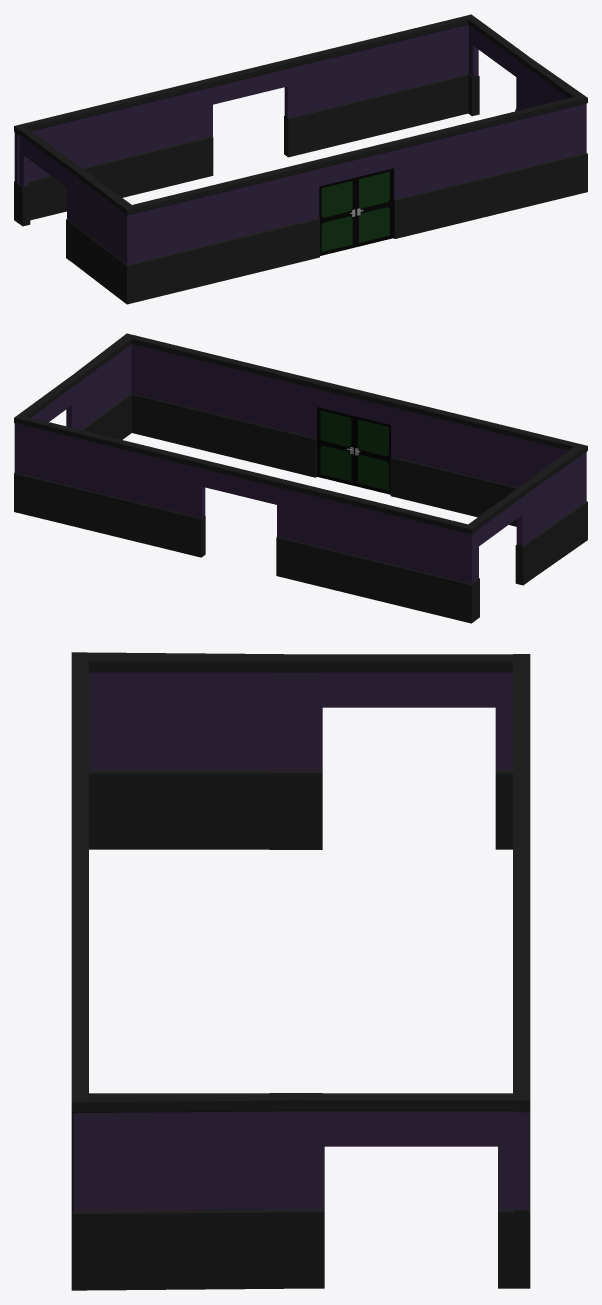
The model's file is Lobby.fbx.
The picture shows the model from 3 angles, top to bottom: view 1: azimuth 30°, elevation 25°; view 2: azimuth 150°, elevation 25°; view 3: azimuth 270°, elevation 25°; orthographic projection. The views are drawn at different scales.
Visible parts, largest first — view 1: Classic_Wall_Corner_snaps001 (4), Classic_Wall_Corner_snaps001 (2), Classic_Wall_snaps001 (30), Classic_Wall_snaps001 (31), Classic_Wall_snaps001 (28), Classic_Wall_snaps001 (44), Classic_WallDoubleDoors_01_snaps001, Classic_Wall_snaps001 (29), Classic_Wall_snaps001 (45), Classic_WallDoubleDoorFrame_01_snaps001 (3), Classic_WallDoubleDoorFrame_01_snaps001 (4), Classic_WallDoubleDoorFrame_01_snaps001 (2) (+2 smaller); view 2: Classic_Wall_Corner_snaps001 (2), Classic_Wall_snaps001 (45), Classic_Wall_Corner_snaps001 (4), Classic_Wall_snaps001 (44), Classic_Wall_snaps001 (30), Classic_Wall_snaps001 (28), Classic_Wall_snaps001 (29), Classic_Wall_snaps001 (31), Classic_WallDoubleDoors_01_snaps001, Classic_WallDoubleDoorFrame_01_snaps001 (3), Classic_WallDoubleDoorFrame_01_snaps001 (4), Classic_WallDoubleDoorFrame_01_snaps001 (2) (+2 smaller); view 3: Classic_Wall_Corner_snaps001 (2), Classic_Wall_Corner_snaps001 (4), Classic_WallDoubleDoorFrame_01_snaps001 (2), Classic_WallDoubleDoorFrame_01_snaps001 (4), Classic_Wall_snaps001 (87), Classic_Wall_snaps001 (29), Classic_Wall_snaps001 (88), Classic_Wall_snaps001 (45), Classic_Wall_snaps001 (30), Classic_Wall_snaps001 (28), Classic_WallDoubleDoors_01_snaps001, Classic_Wall_snaps001 (31) (+2 smaller).
Boxes of the visible parts, x1=… form: Classic_Wall_Corner_snaps001 (4): x1=74, y1=168, x2=222, y2=304; Classic_Wall_Corner_snaps001 (2): x1=488, y1=59, x2=587, y2=215; Classic_Wall_snaps001 (30): x1=292, y1=36, x2=385, y2=155; Classic_Wall_snaps001 (31): x1=219, y1=162, x2=312, y2=280; Classic_Wall_snaps001 (28): x1=398, y1=118, x2=492, y2=237; Classic_Wall_snaps001 (44): x1=112, y1=80, x2=205, y2=197; Classic_WallDoubleDoors_01_snaps001: x1=308, y1=140, x2=402, y2=259; Classic_Wall_snaps001 (29): x1=382, y1=14, x2=475, y2=133; Classic_Wall_snaps001 (45): x1=14, y1=102, x2=115, y2=222; Classic_WallDoubleDoorFrame_01_snaps001 (3): x1=202, y1=58, x2=295, y2=177; Classic_WallDoubleDoorFrame_01_snaps001 (4): x1=18, y1=127, x2=77, y2=261; Classic_WallDoubleDoorFrame_01_snaps001 (2): x1=468, y1=17, x2=526, y2=116; Classic_Wall_Corner_snaps001 (2): x1=75, y1=333, x2=221, y2=453; Classic_Wall_snaps001 (45): x1=374, y1=502, x2=475, y2=623; Classic_Wall_Corner_snaps001 (4): x1=488, y1=422, x2=587, y2=578; Classic_Wall_snaps001 (44): x1=284, y1=480, x2=377, y2=599; Classic_Wall_snaps001 (30): x1=104, y1=436, x2=197, y2=555; Classic_Wall_snaps001 (28): x1=218, y1=356, x2=311, y2=475; Classic_Wall_snaps001 (29): x1=14, y1=415, x2=107, y2=533; Classic_Wall_snaps001 (31): x1=398, y1=400, x2=491, y2=517; Classic_WallDoubleDoors_01_snaps001: x1=308, y1=378, x2=401, y2=497; Classic_WallDoubleDoorFrame_01_snaps001 (3): x1=194, y1=458, x2=287, y2=577; Classic_WallDoubleDoorFrame_01_snaps001 (4): x1=468, y1=486, x2=527, y2=619; Classic_WallDoubleDoorFrame_01_snaps001 (2): x1=18, y1=377, x2=76, y2=427; Classic_Wall_Corner_snaps001 (2): x1=71, y1=1009, x2=287, y2=1290; Classic_Wall_Corner_snaps001 (4): x1=71, y1=652, x2=287, y2=849; Classic_WallDoubleDoorFrame_01_snaps001 (2): x1=307, y1=1093, x2=515, y2=1288; Classic_WallDoubleDoorFrame_01_snaps001 (4): x1=305, y1=654, x2=512, y2=849; Classic_Wall_snaps001 (87): x1=269, y1=654, x2=322, y2=849; Classic_Wall_snaps001 (29): x1=513, y1=1012, x2=530, y2=1288; Classic_Wall_snaps001 (88): x1=270, y1=1093, x2=322, y2=1288; Classic_Wall_snaps001 (45): x1=513, y1=654, x2=530, y2=749; Classic_Wall_snaps001 (30): x1=513, y1=925, x2=530, y2=1123; Classic_Wall_snaps001 (28): x1=71, y1=921, x2=88, y2=1120; Classic_WallDoubleDoors_01_snaps001: x1=71, y1=833, x2=88, y2=921; Classic_Wall_snaps001 (31): x1=71, y1=745, x2=88, y2=833.
Bounding box in the file's own units: 15.38 × 3 × 6.63.
